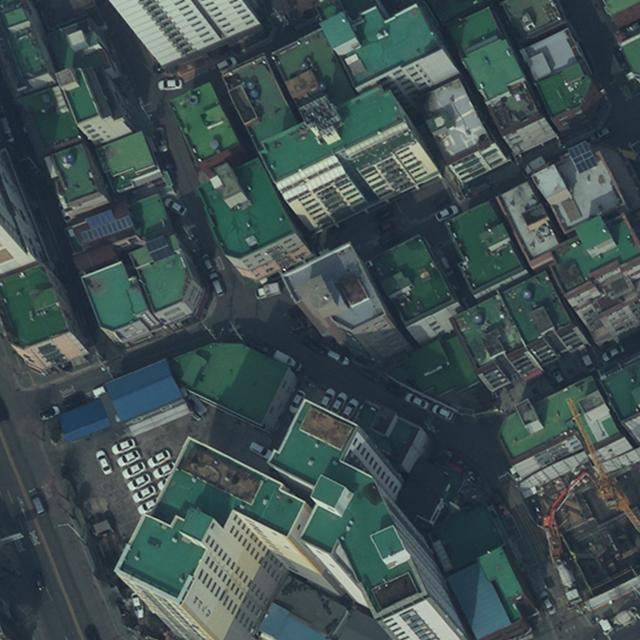panel: (78, 214, 134, 242), (564, 140, 596, 175), (144, 234, 174, 262), (84, 208, 115, 228)
